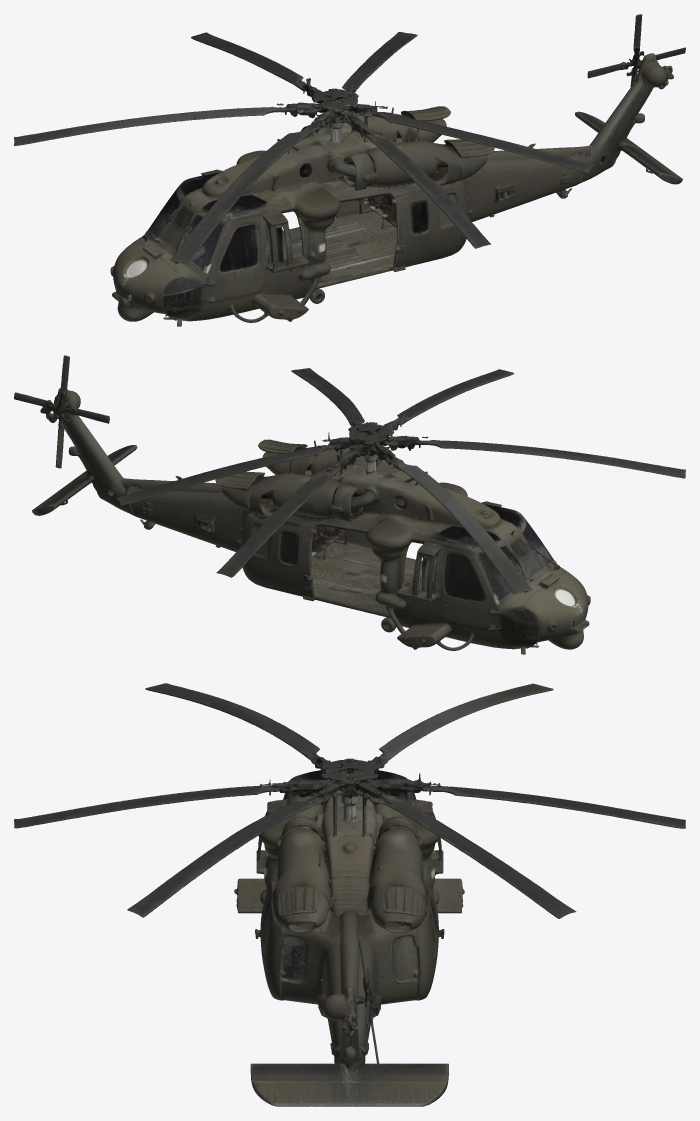
The model's file is crashed_helicopter.glb.
3 renders of one model, top to bottom at view 1: azimuth 30°, elevation 25°; view 2: azimuth 150°, elevation 25°; view 3: azimuth 270°, elevation 25°, orthographic. The views are drawn at different scales.
Size of the model in its own units: 1.9 by 0.535 by 1.57.
Materials: 1 (1 with a texture image).
